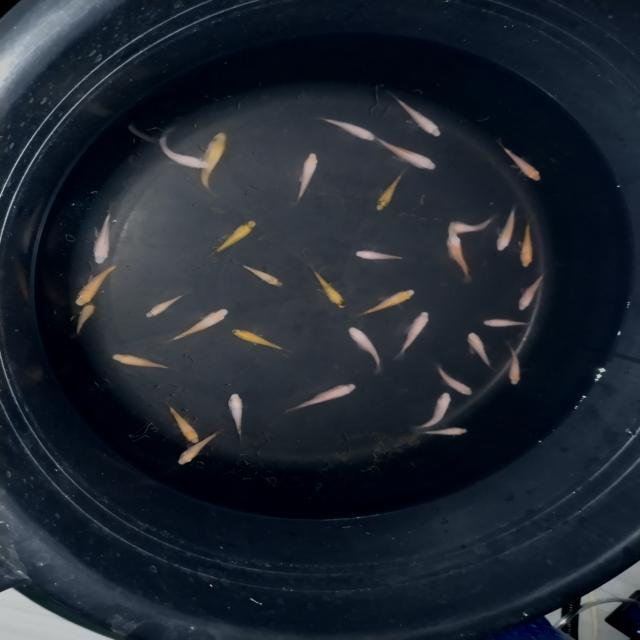nila: (385, 94, 444, 142), (71, 260, 125, 310), (284, 380, 361, 414), (372, 134, 438, 173), (168, 306, 232, 346), (196, 128, 231, 198), (492, 136, 542, 184), (304, 263, 350, 313), (342, 324, 386, 376), (152, 134, 212, 172), (314, 112, 379, 146), (174, 426, 224, 468), (210, 218, 263, 256), (356, 288, 419, 319), (228, 327, 300, 354), (89, 201, 118, 266), (286, 152, 322, 204), (394, 309, 430, 361), (488, 204, 524, 254), (160, 401, 200, 446), (412, 392, 456, 432), (232, 260, 288, 291), (372, 170, 409, 216), (513, 270, 550, 314), (434, 361, 476, 398), (441, 234, 471, 284), (108, 352, 176, 373), (224, 390, 250, 443), (144, 291, 191, 320), (68, 302, 100, 342), (464, 331, 494, 373), (352, 248, 412, 268), (501, 336, 523, 388), (516, 219, 538, 270), (414, 421, 470, 441), (446, 213, 499, 234), (477, 316, 536, 330)
